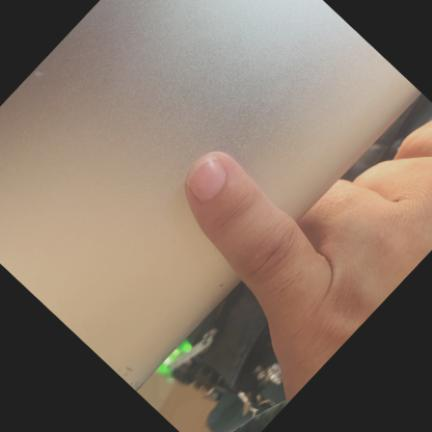Nail: (185, 156, 227, 201)
